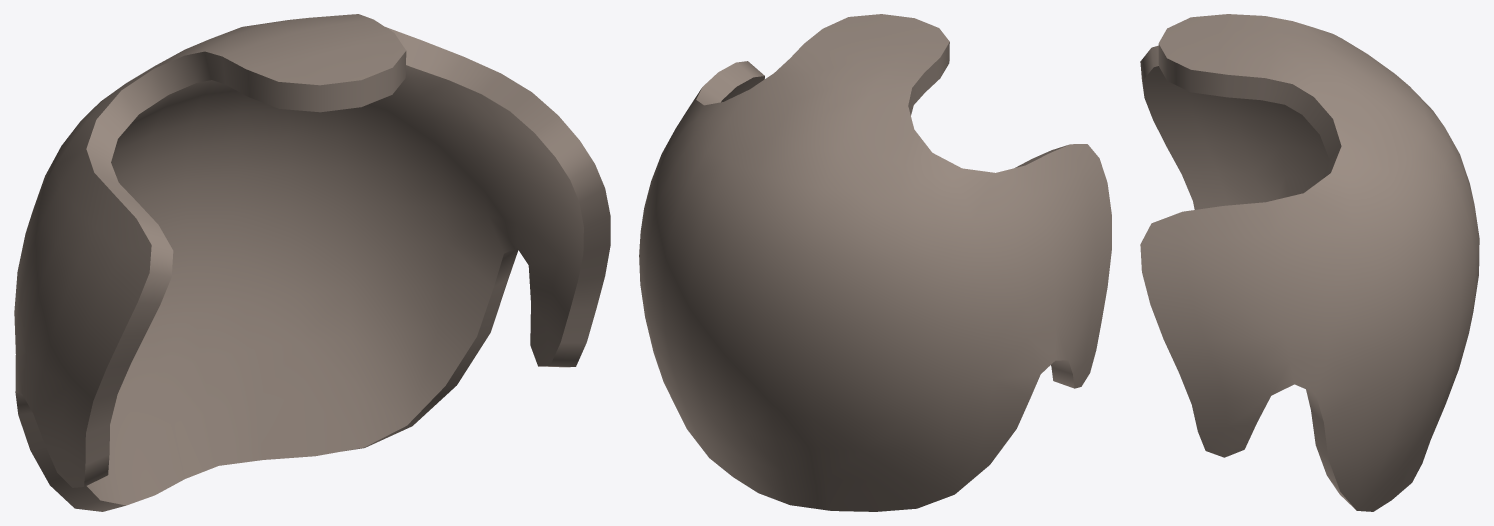
3 renders of one model, left to right at view 1: azimuth 30°, elevation 25°; view 2: azimuth 150°, elevation 25°; view 3: azimuth 270°, elevation 25°, orthographic. The views are drawn at different scales.
Parts seen in each view (by area): view 1: hair_person_3; view 2: hair_person_3; view 3: hair_person_3.
Part boxes in pixels (x1,y1,x2,y2): hair_person_3: (14, 14, 610, 511); hair_person_3: (639, 14, 1111, 511); hair_person_3: (1140, 14, 1479, 511).
Bounding box in the file's own units: 2.01 × 1.85 × 1.35.
